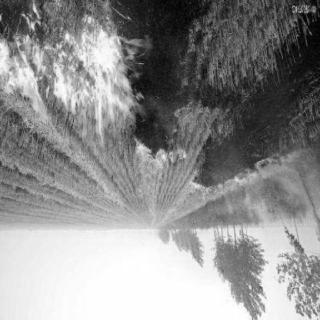Fire: (1, 23, 141, 140), (132, 142, 192, 169), (190, 178, 238, 200)
